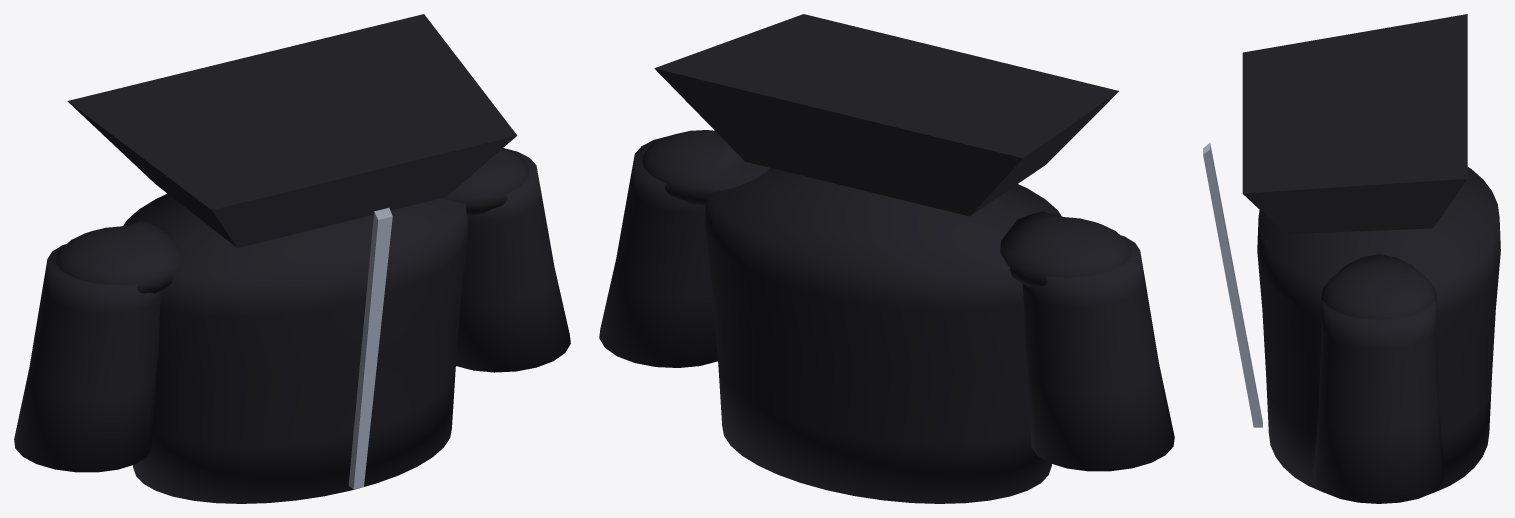
Rendered from top_cool_0.glb.
3 views of the same model, side by side, from view 1: azimuth 30°, elevation 25°; view 2: azimuth 150°, elevation 25°; view 3: azimuth 270°, elevation 25° (orthographic). The views are drawn at different scales.
Bounding box in the file's own units: 0.6992 × 0.4416 × 0.3537.
